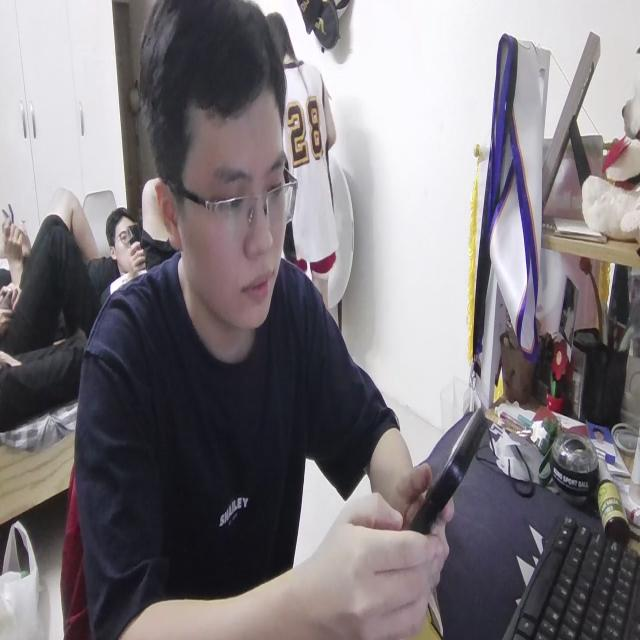extra_person: (268, 11, 343, 305), (1, 192, 85, 395), (98, 207, 147, 286)
phone: (398, 406, 491, 533)
student: (69, 2, 447, 640)
